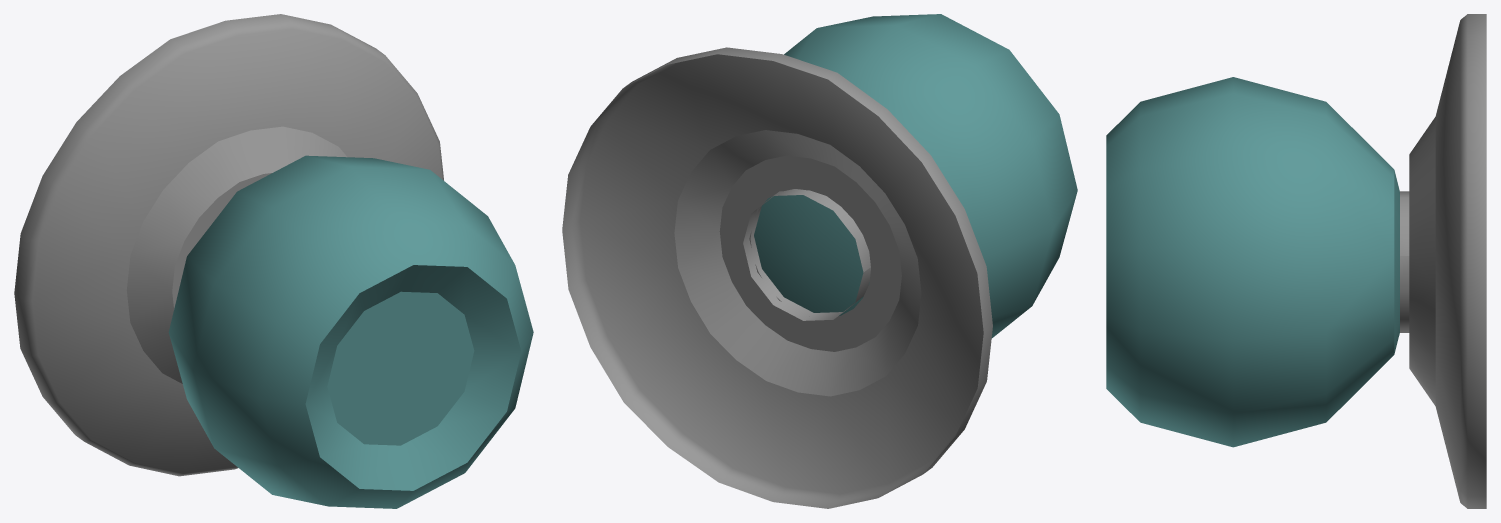
File: door handle1.fbx
3 renders of one model, left to right at view 1: azimuth 30°, elevation 25°; view 2: azimuth 150°, elevation 25°; view 3: azimuth 270°, elevation 25°, orthographic. The views are drawn at different scales.
Parts seen in each view (by area): view 1: handle1; view 2: handle1; view 3: handle1.
Boxes of the visible parts, x1=… form: handle1: x1=14, y1=14, x2=533, y2=508; handle1: x1=562, y1=14, x2=1077, y2=508; handle1: x1=1106, y1=14, x2=1486, y2=508.
Bounding box in the file's own units: 10 × 10 × 7.66.
